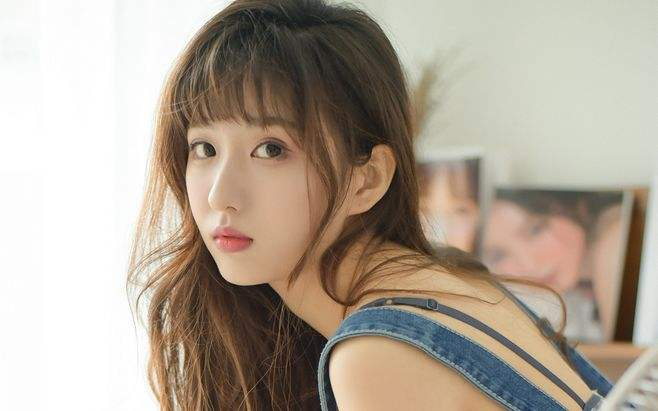person: (155, 10, 451, 396)
